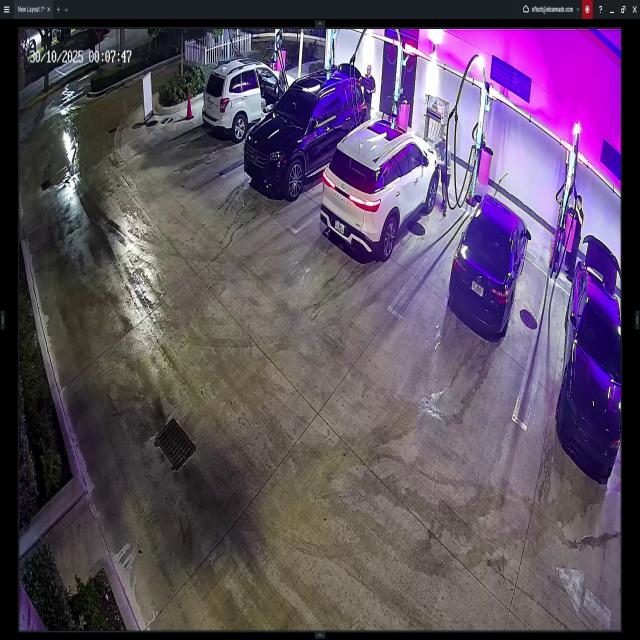Car: (318, 110, 439, 258), (244, 61, 372, 198), (558, 232, 622, 470), (444, 190, 531, 337), (201, 52, 298, 138)
